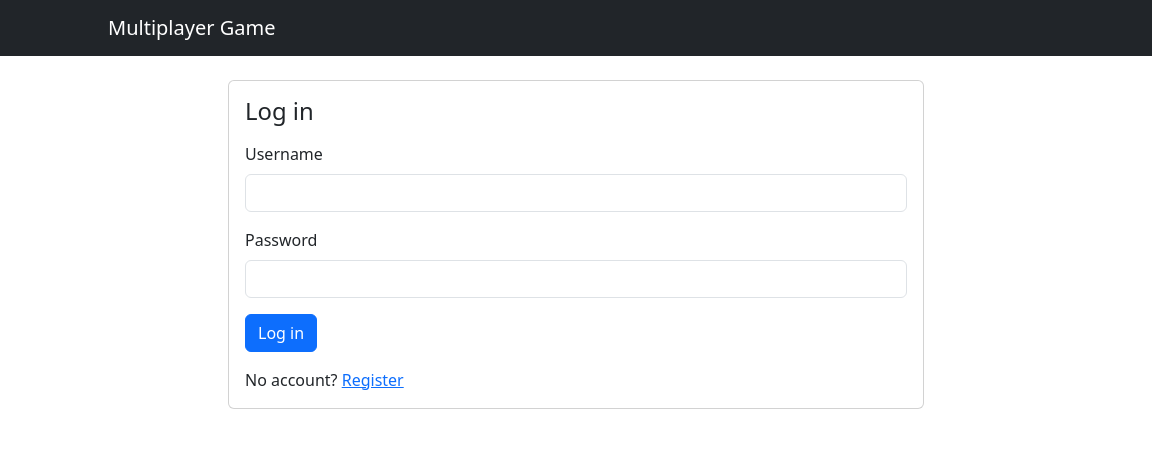
Test: empty fields show messages and send nothing
Click the button "Log in": (281, 333) [245,314,317,352]
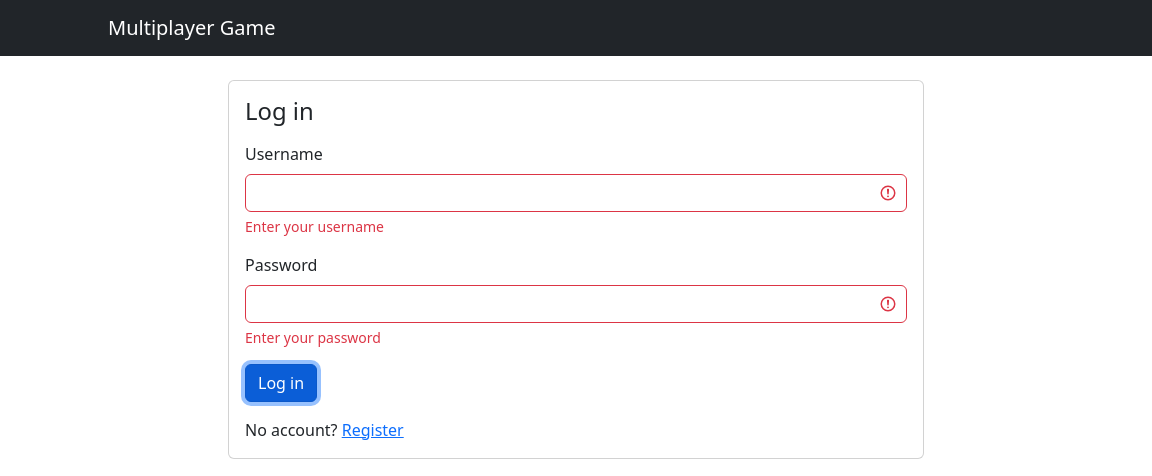
Now the text "Enter your username" is shown, box [245,217,384,236]
Now the text "Enter your password" is shown, box [245,328,381,347]
